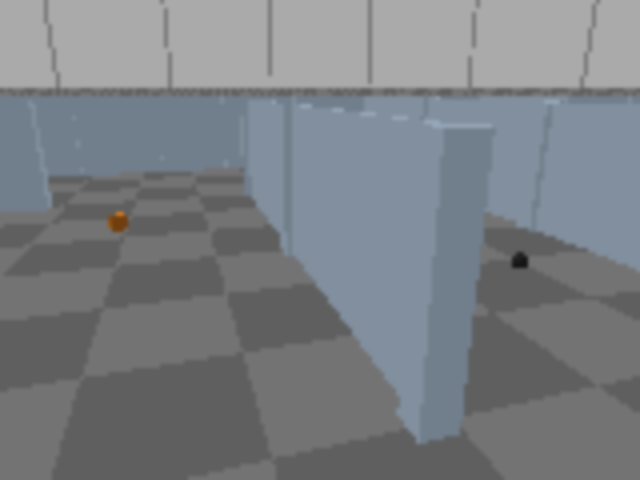puck: (507, 250, 533, 272), (108, 214, 128, 231)
